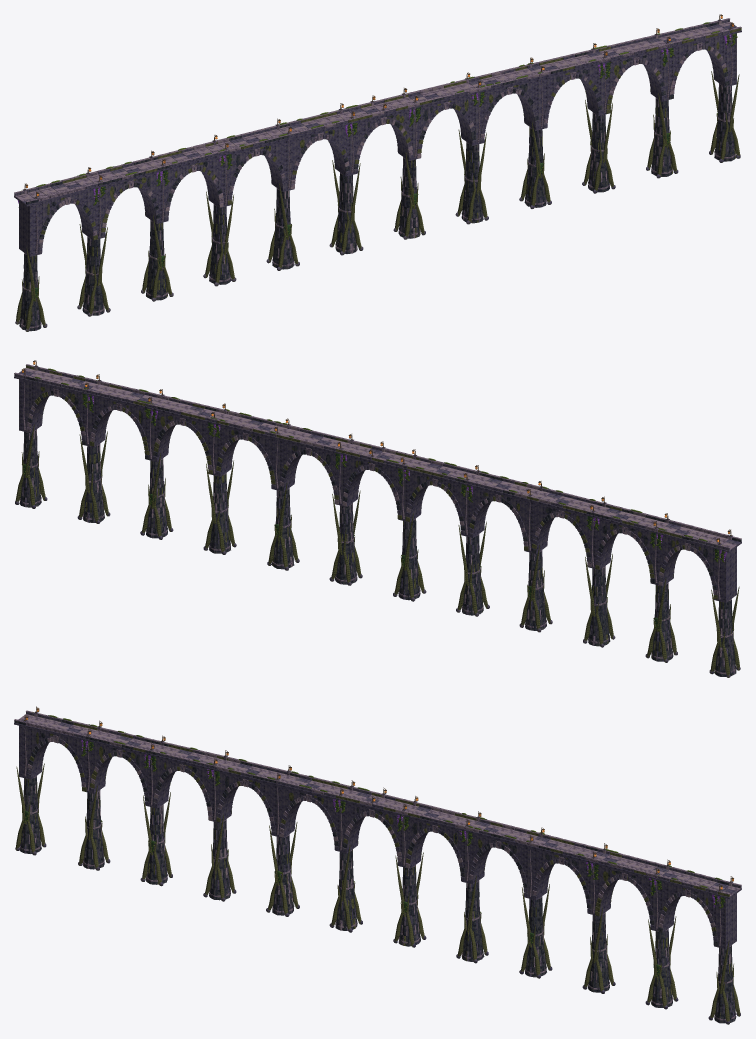
File: stone_viaduct.glb
The picture shows the model from 3 angles, top to bottom: view 1: azimuth 30°, elevation 25°; view 2: azimuth 150°, elevation 25°; view 3: azimuth 330°, elevation 25°; orthographic projection.
Parts seen in each view (by area): view 1: stone_viaduct_stone, stone_viaduct_stone_wet, stone_viaduct_stone_light, stone_viaduct_stone_lichen, stone_viaduct_moss, stone_viaduct_leaf, stone_viaduct_metal; view 2: stone_viaduct_stone, stone_viaduct_stone_wet, stone_viaduct_stone_light, stone_viaduct_stone_lichen, stone_viaduct_moss, stone_viaduct_leaf, stone_viaduct_metal; view 3: stone_viaduct_stone, stone_viaduct_stone_light, stone_viaduct_stone_wet, stone_viaduct_stone_lichen, stone_viaduct_moss, stone_viaduct_leaf, stone_viaduct_metal.
Boxes of the visible parts, box(x1,y1,x2,y2) form: stone_viaduct_stone: box(14, 19, 741, 331); stone_viaduct_stone_wet: box(19, 22, 736, 331); stone_viaduct_stone_light: box(14, 18, 741, 328); stone_viaduct_stone_lichen: box(16, 28, 741, 331); stone_viaduct_moss: box(18, 22, 737, 300); stone_viaduct_leaf: box(33, 22, 736, 299); stone_viaduct_metal: box(24, 14, 733, 198); stone_viaduct_stone: box(14, 365, 741, 677); stone_viaduct_stone_wet: box(20, 376, 741, 676); stone_viaduct_stone_light: box(14, 364, 741, 674); stone_viaduct_stone_lichen: box(15, 365, 739, 677); stone_viaduct_moss: box(22, 367, 733, 631); stone_viaduct_leaf: box(23, 375, 723, 628); stone_viaduct_metal: box(22, 360, 731, 544); stone_viaduct_stone: box(14, 712, 741, 1024); stone_viaduct_stone_light: box(14, 710, 741, 1020); stone_viaduct_stone_wet: box(14, 720, 735, 1023); stone_viaduct_stone_lichen: box(16, 722, 740, 1024); stone_viaduct_moss: box(22, 712, 733, 976); stone_viaduct_leaf: box(23, 715, 724, 976); stone_viaduct_metal: box(24, 706, 733, 890).
Size of the model in its own units: 420 by 80 by 13.
10 materials, 10 textured.
